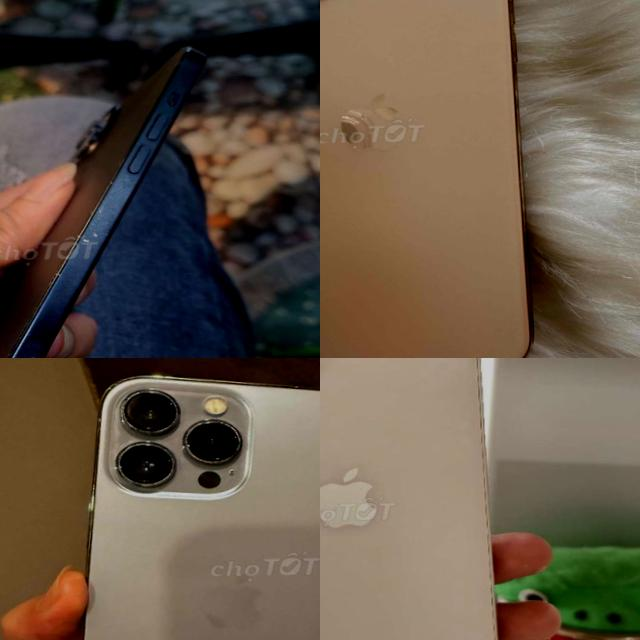gen_11: (320, 0, 542, 358)
gen_12_13: (48, 364, 320, 640), (320, 358, 505, 640)
gen_15: (0, 39, 238, 358)
scratch: (50, 196, 113, 282)
